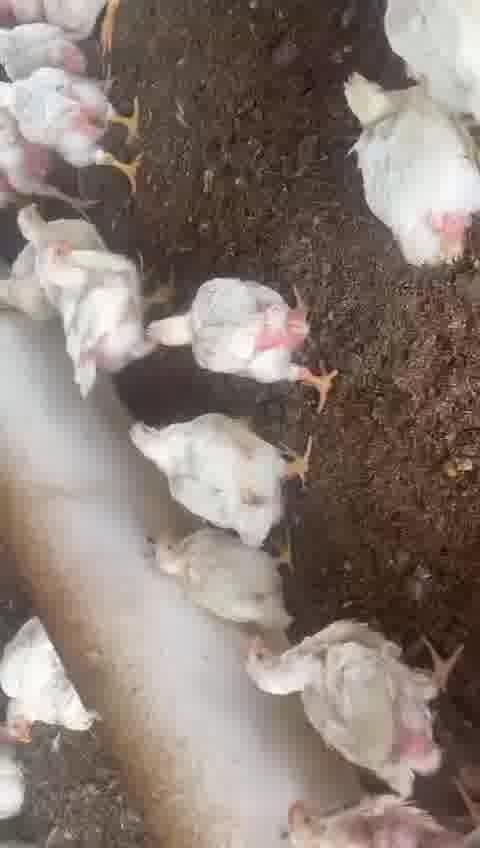AbNormal: (143, 514, 312, 639), (263, 774, 448, 848)
Normal: (239, 613, 453, 781), (339, 64, 480, 280), (127, 277, 355, 404), (124, 397, 324, 536), (0, 73, 150, 191), (38, 241, 146, 382), (6, 177, 83, 305), (0, 23, 108, 93)
